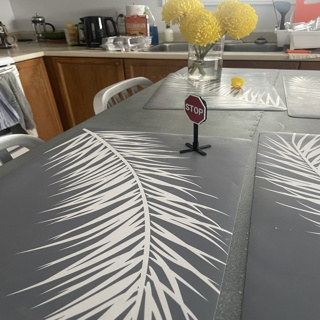sign_stop: (183, 94, 204, 125)
